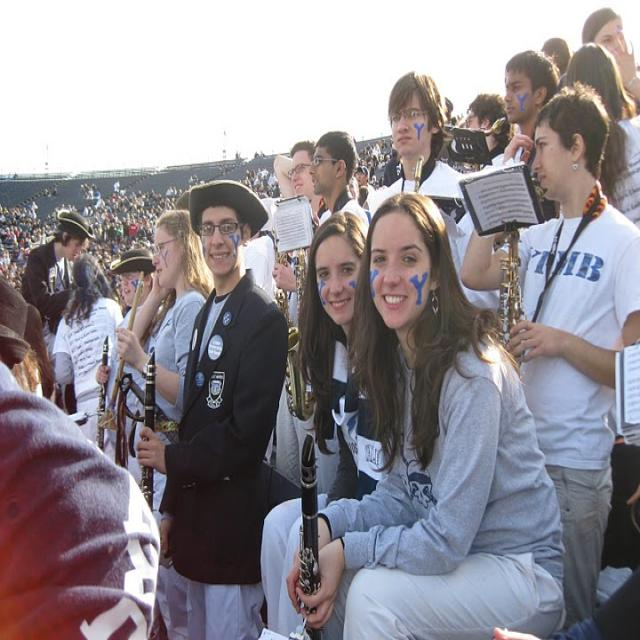clarinet: (294, 433, 325, 639), (136, 349, 160, 516), (93, 337, 112, 448)
saxophone: (284, 209, 327, 416), (488, 223, 527, 365)
